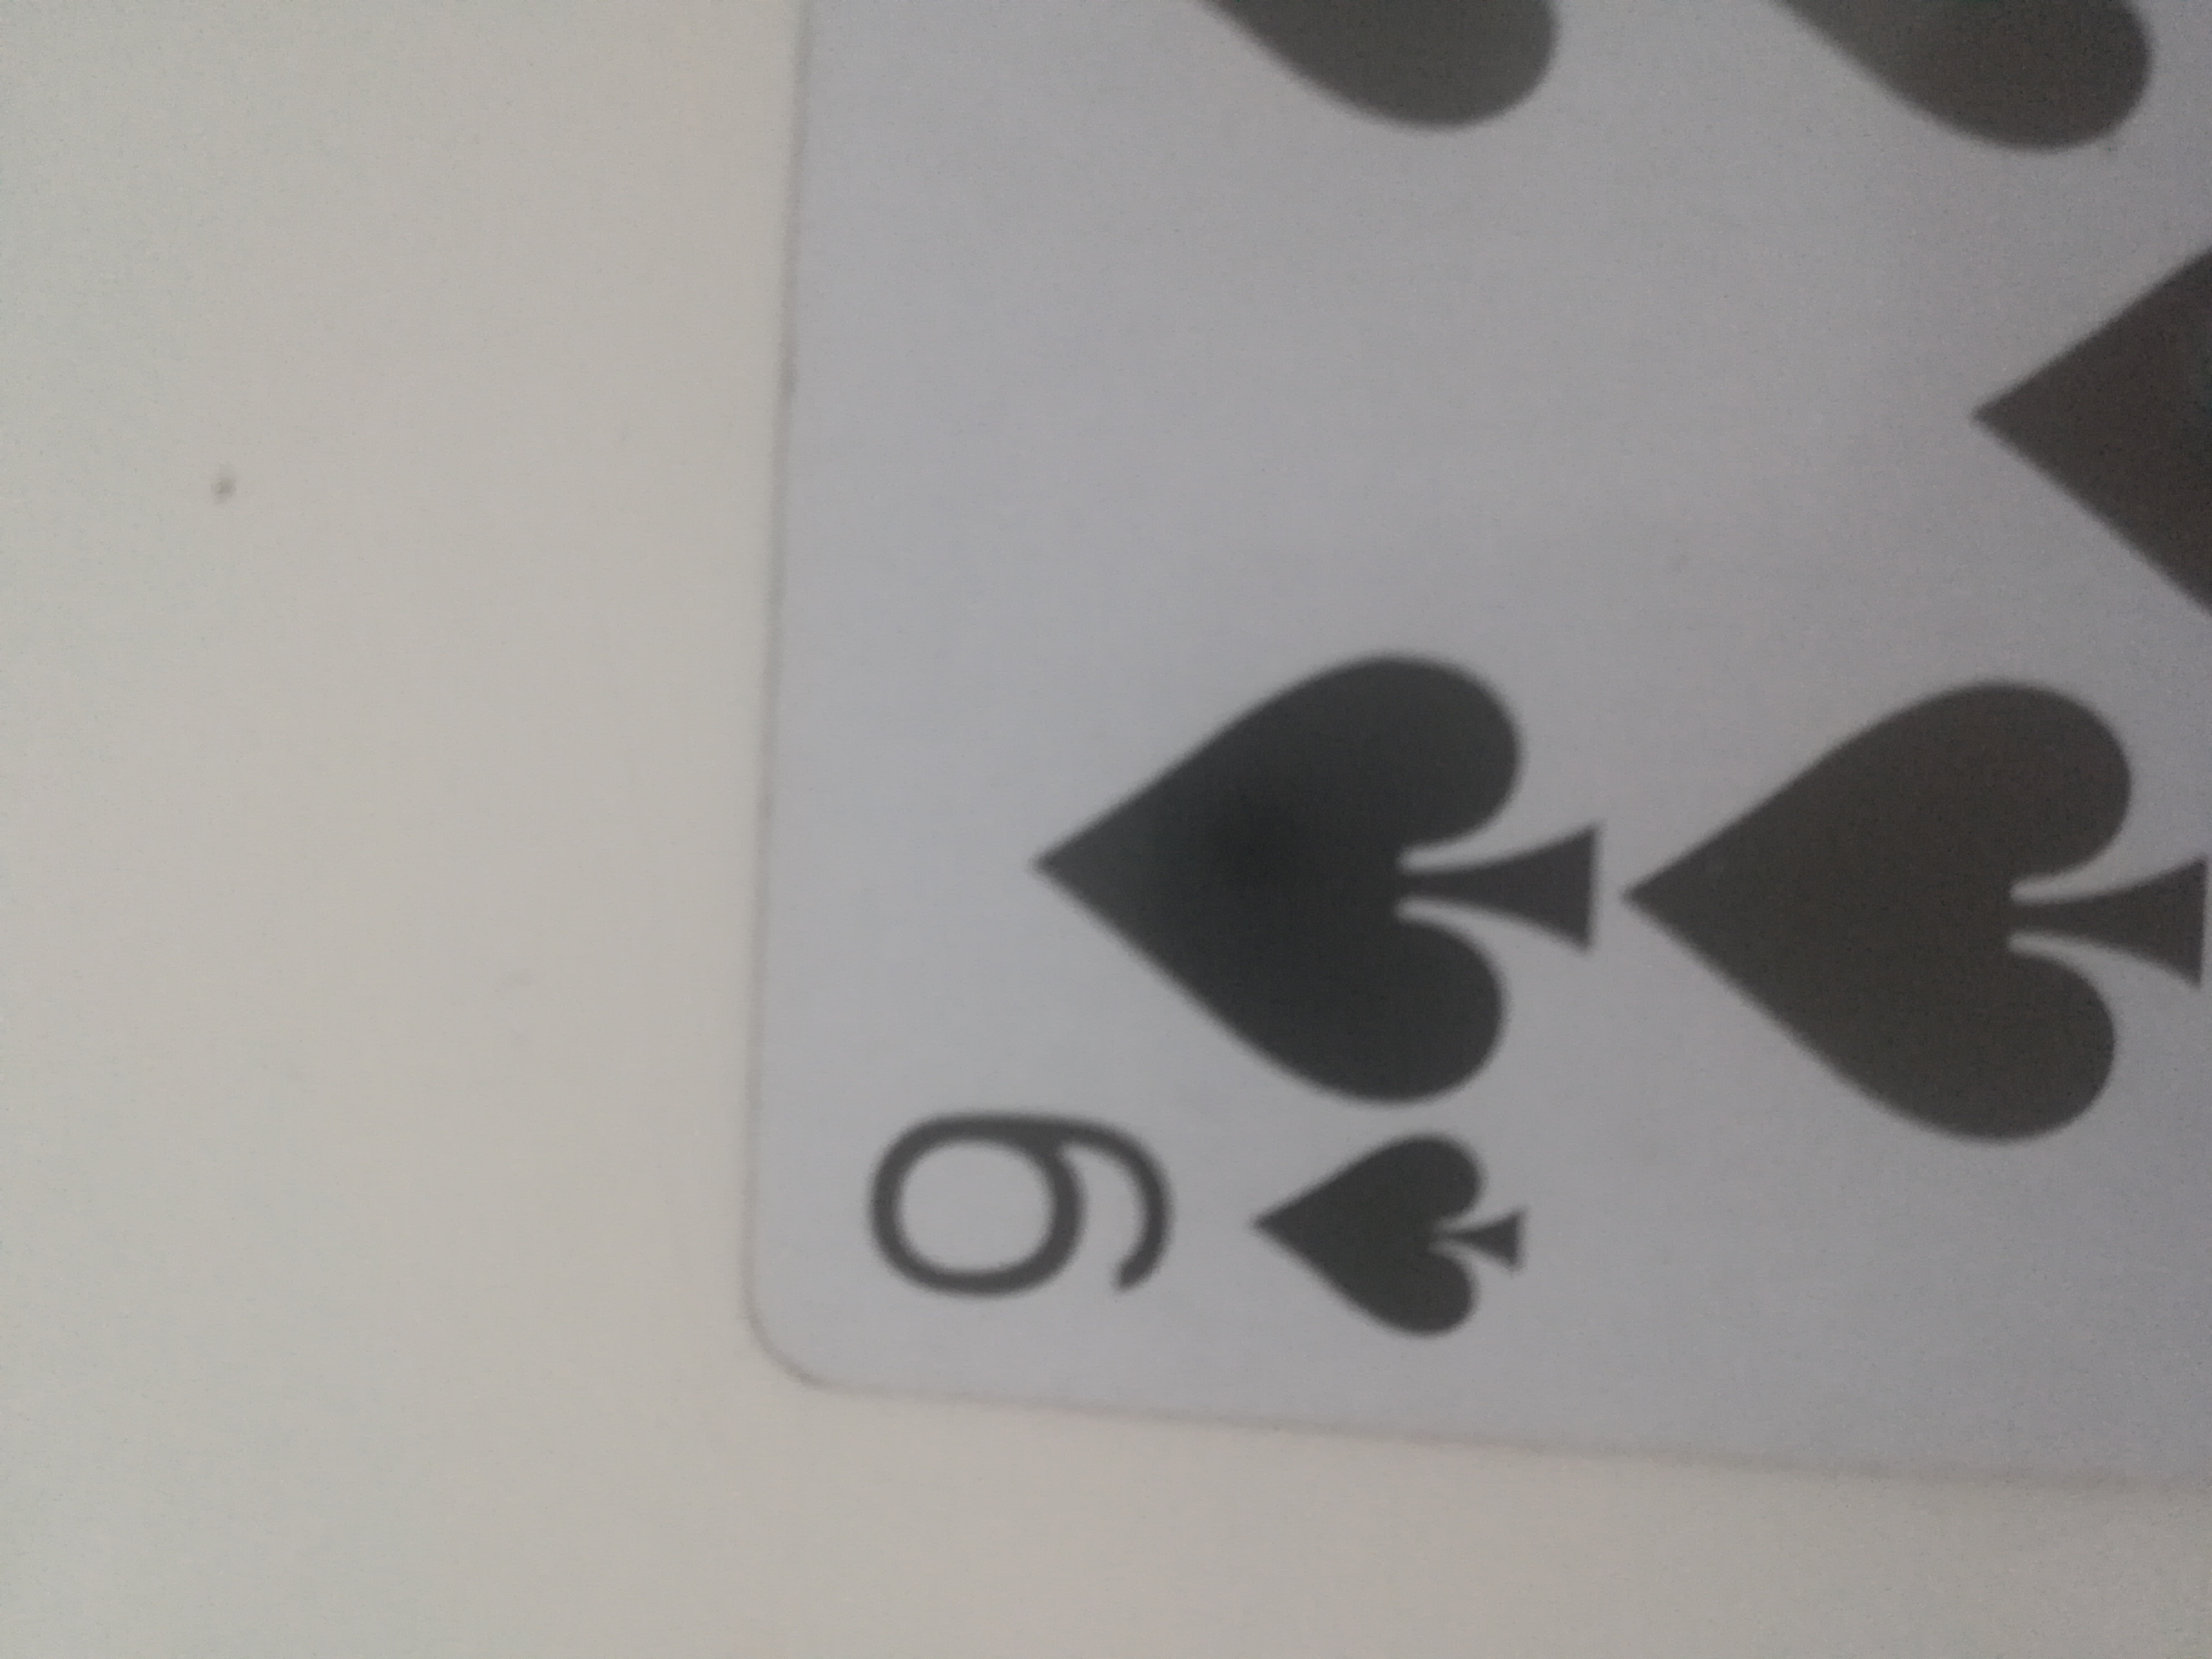9S: (732, 14, 2212, 1485)
